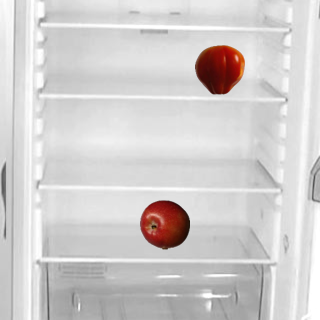Apple Braeburn: (139, 199, 189, 249)
Tomato 1: (194, 44, 244, 94)
